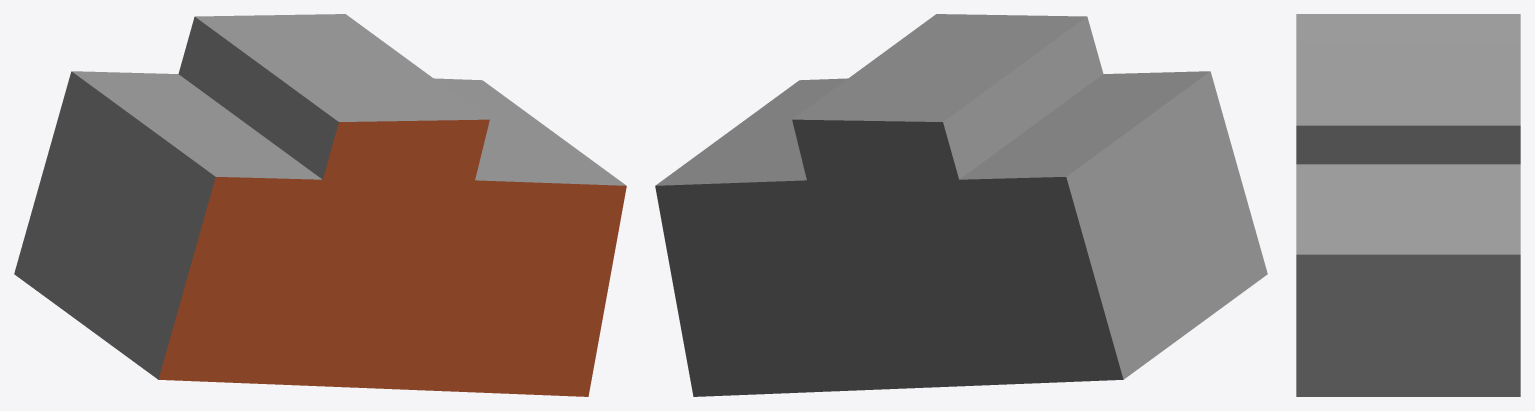
File: construction_3821_assumed_A_Casa_h6m.obj
3 views of the same model, side by side, from view 1: azimuth 30°, elevation 25°; view 2: azimuth 150°, elevation 25°; view 3: azimuth 270°, elevation 25° (orthographic). The views are drawn at different scales.
Visible parts, largest first — view 1: construction_3821_assumed_A_Casa; view 2: construction_3821_assumed_A_Casa; view 3: construction_3821_assumed_A_Casa.
Part boxes in pixels (x1,y1,x2,y2): construction_3821_assumed_A_Casa: (14,14,626,396); construction_3821_assumed_A_Casa: (655,14,1267,396); construction_3821_assumed_A_Casa: (1296,14,1520,396).
Bounding box in the file's own units: 11.24 × 7.7 × 6.
